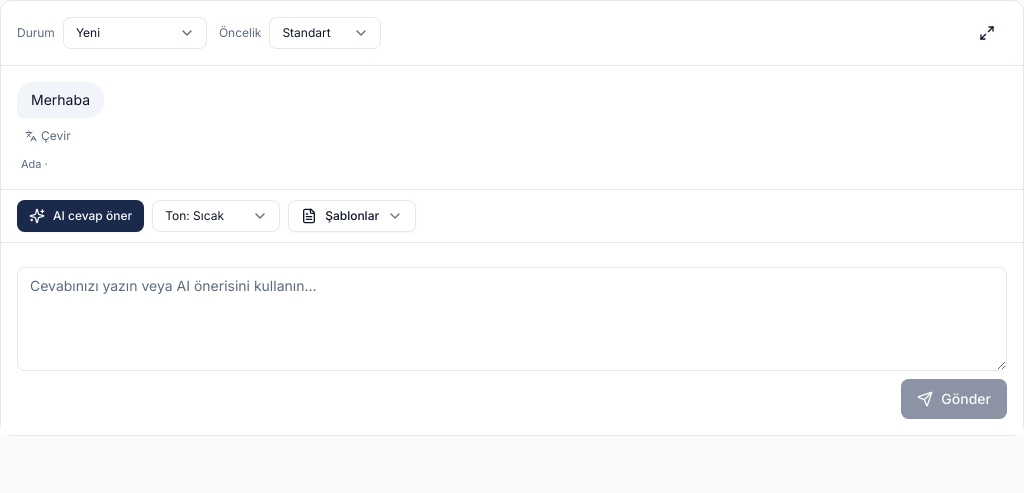
gelen kutusu yazma alanı — istek kimliği › 🚨 F6: tekilleşen tekrarın satırı GÖNDERİLEMEDİ ise yazılan metin KORUNUR ve sebep görünür
In the text box with placeholder "Cevabınızı yazın veya AI önerisini kullanın…": (512,318) top-left (17, 266), bottom-right (1007, 370), type "Kapı şifresi 4512"
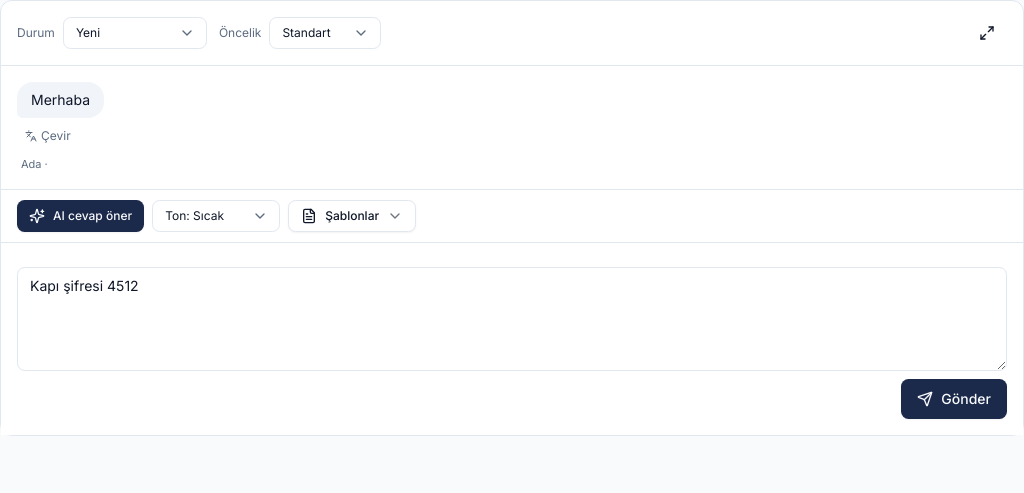
Click the button "Gönder": (954,398) top-left (901, 378), bottom-right (1007, 418)
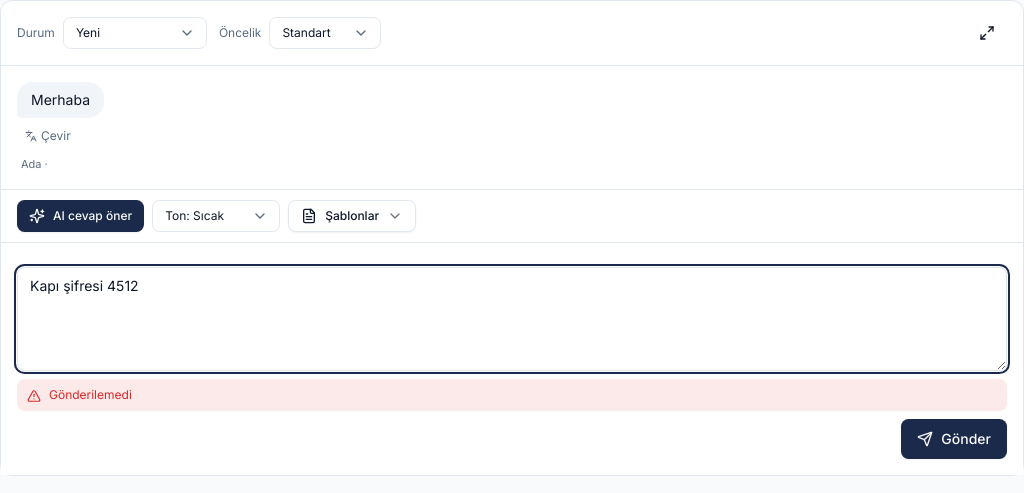
Check: the text "Gönderilemedi" is shown, box top-left (17, 378), bottom-right (1007, 410)
